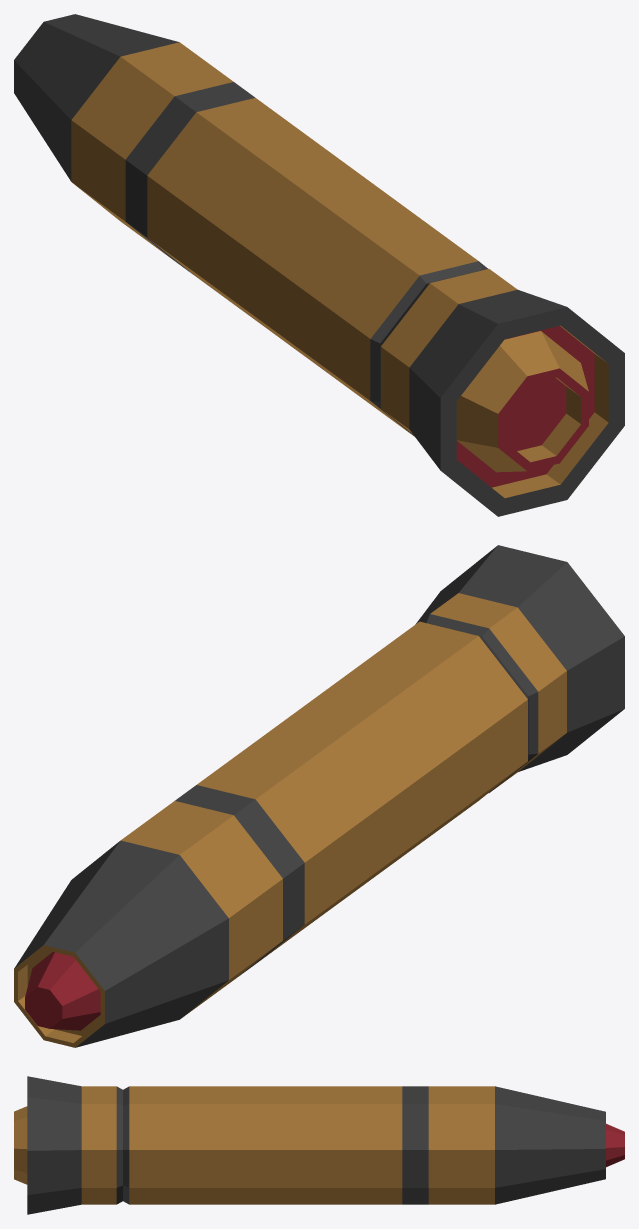
File: bullet.fbx
3 renders of one model, top to bottom at view 1: azimuth 30°, elevation 25°; view 2: azimuth 150°, elevation 25°; view 3: azimuth 270°, elevation 25°, orthographic. The views are drawn at different scales.
Visible parts, largest first — view 1: Cube; view 2: Cube; view 3: Cube.
Part boxes in pixels (left/top/right/bottom): Cube: left=14, top=14, right=624, bottom=516; Cube: left=14, top=545, right=624, bottom=1047; Cube: left=14, top=1076, right=624, bottom=1214.
Bounding box in the file's own units: 49.68 × 49.68 × 233.
